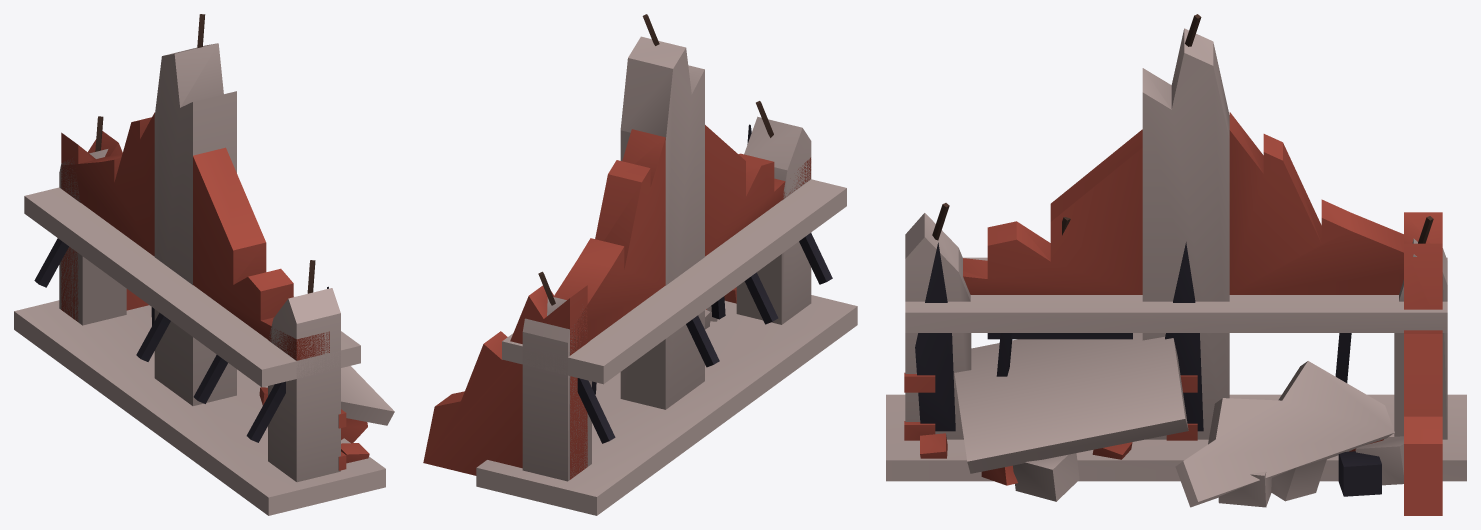
The picture shows the model from 3 angles, left to right: view 1: azimuth 30°, elevation 25°; view 2: azimuth 150°, elevation 25°; view 3: azimuth 270°, elevation 25°; orthographic projection. The views are drawn at different scales.
Visible parts, largest first — view 1: body_pal_sidewalk, body_pal_brick, body_pal_uiDark, body_pal_leather; view 2: body_pal_sidewalk, body_pal_brick, body_pal_uiDark, body_pal_leather; view 3: body_pal_sidewalk, body_pal_brick, body_pal_uiDark, body_pal_leather.
Boxes of the visible parts, x1,y1,x2,y2 form: body_pal_sidewalk: (14,43,394,515); body_pal_brick: (61,112,369,470); body_pal_uiDark: (34,238,328,442); body_pal_leather: (95,14,315,293); body_pal_sidewalk: (476,36,857,515); body_pal_brick: (423,125,811,479); body_pal_uiDark: (577,124,832,443); body_pal_leather: (538,14,773,305); body_pal_sidewalk: (886,28,1466,507); body_pal_brick: (904,112,1442,515); body_pal_uiDark: (915,242,1381,496); body_pal_leather: (932,14,1433,243).
Size of the model in its own units: 2.65 by 5.02 by 6.
